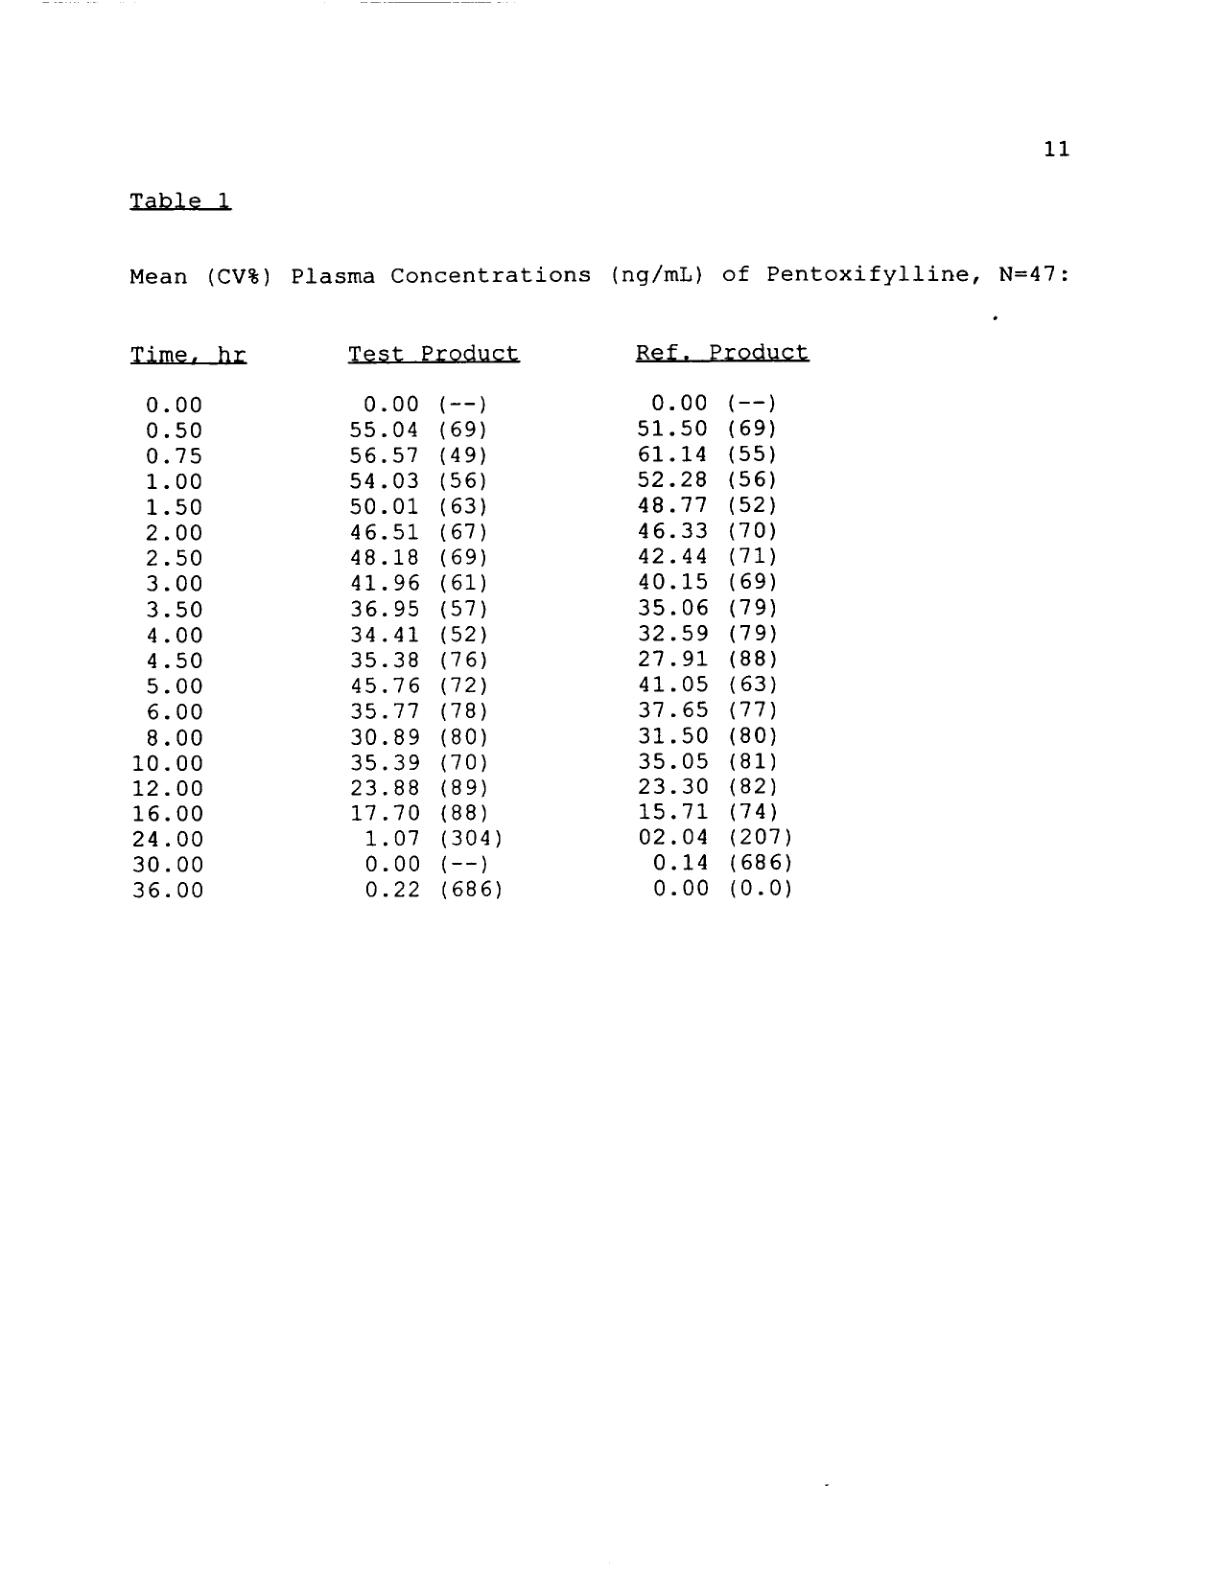nolines: (125, 338, 814, 907)
